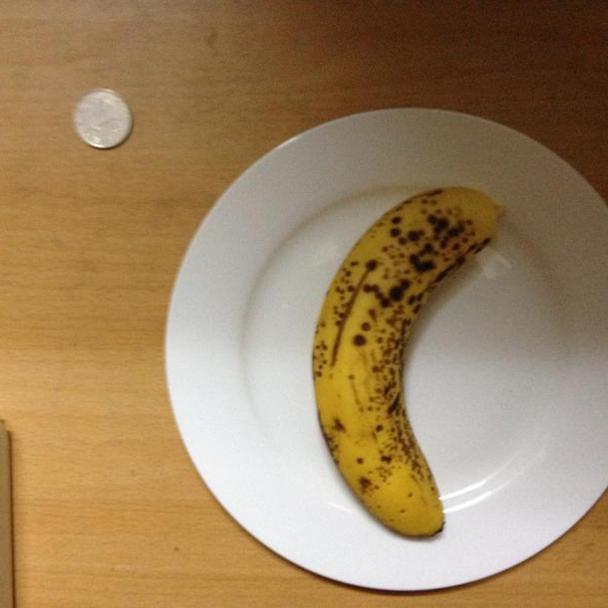banana: (307, 188, 507, 539)
